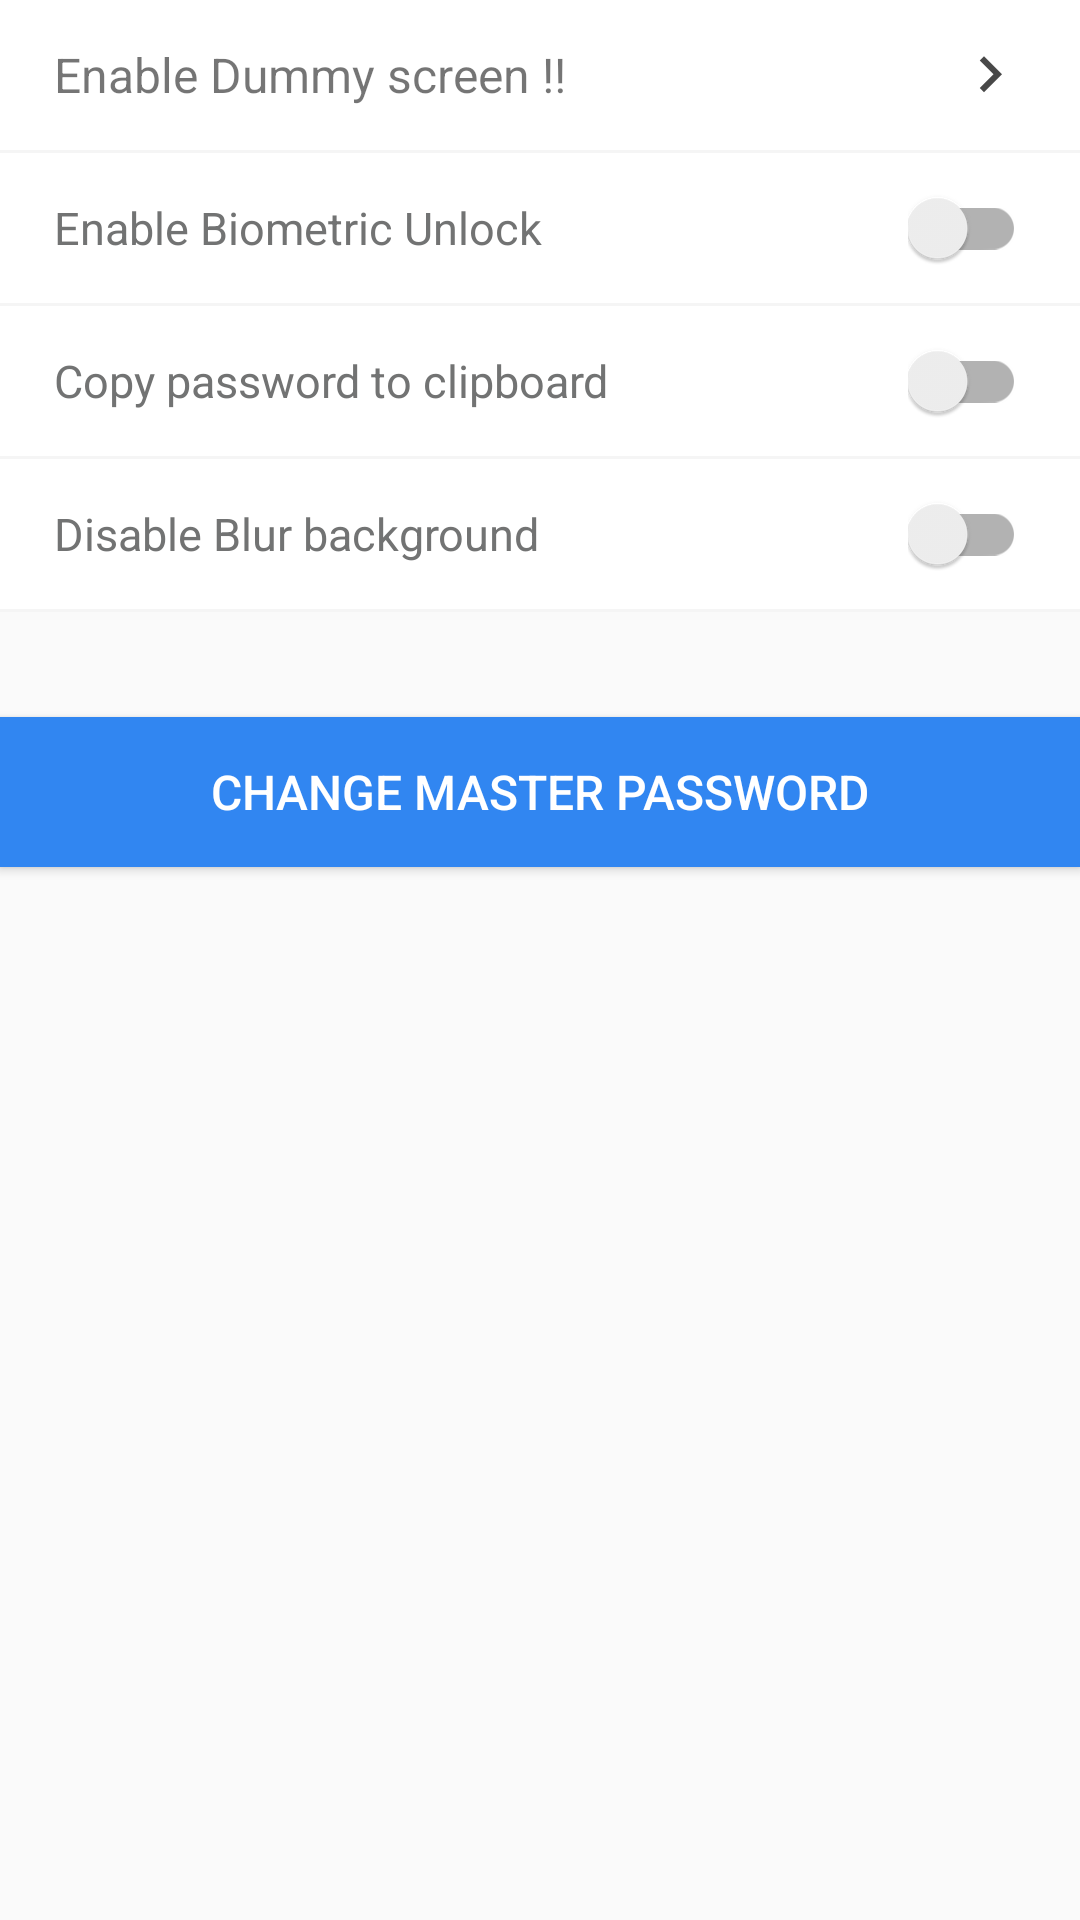

Icons on this 1080×1920 Android screen, each with the point to tap as [x,y]:
right arrow: [991,74]
